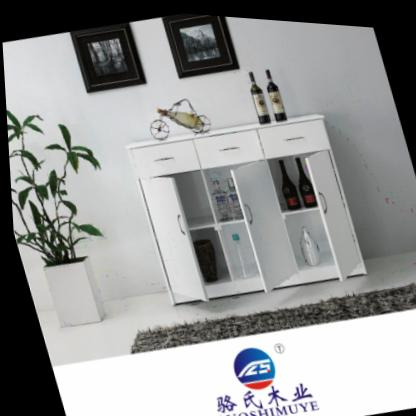Cupboard: (126, 110, 365, 304)
